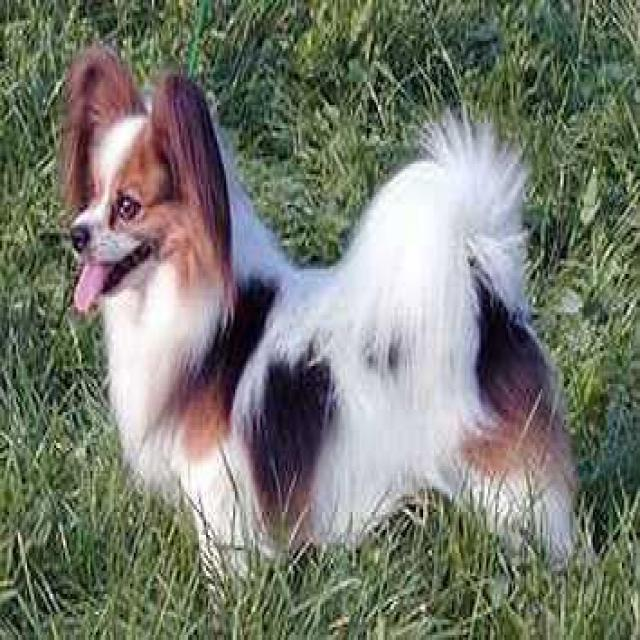good: (58, 42, 583, 576)
